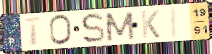I: (171, 7, 179, 39)
K: (140, 9, 162, 39)
M: (104, 10, 137, 43)
O: (49, 14, 74, 47)
S: (79, 12, 106, 45)
T: (23, 17, 45, 47)
